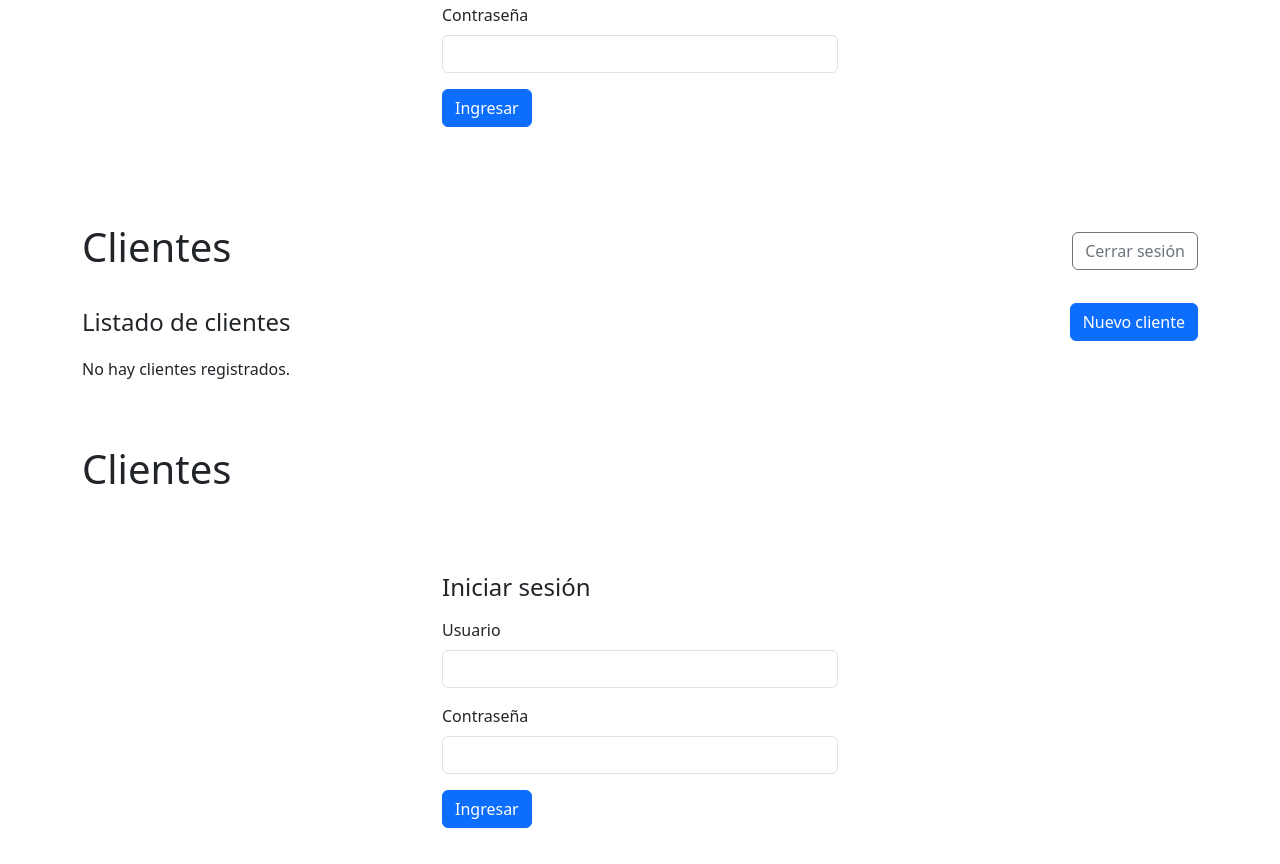
Scenario: composition root › debe_mostrar_el_error_en_el_formulario_sin_redirigir_con_credenciales_incorrectas
This screenshot has width=1280, height=864.
(page scrolled)
Type "admin" into the field. click: (640, 669)
box: [442,650,838,688]
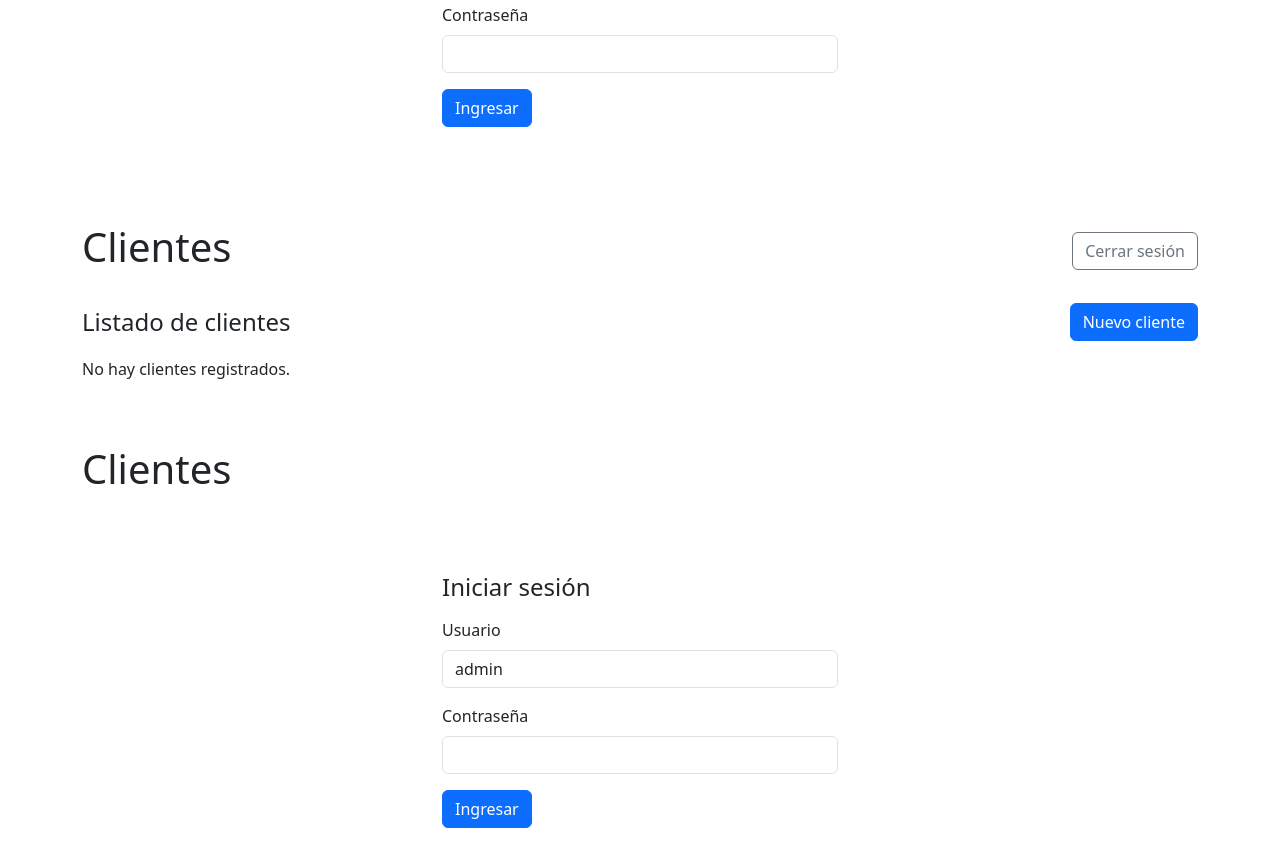
Type "mala" into the 2nd password field. click: (640, 755)
box: [442,736,838,774]
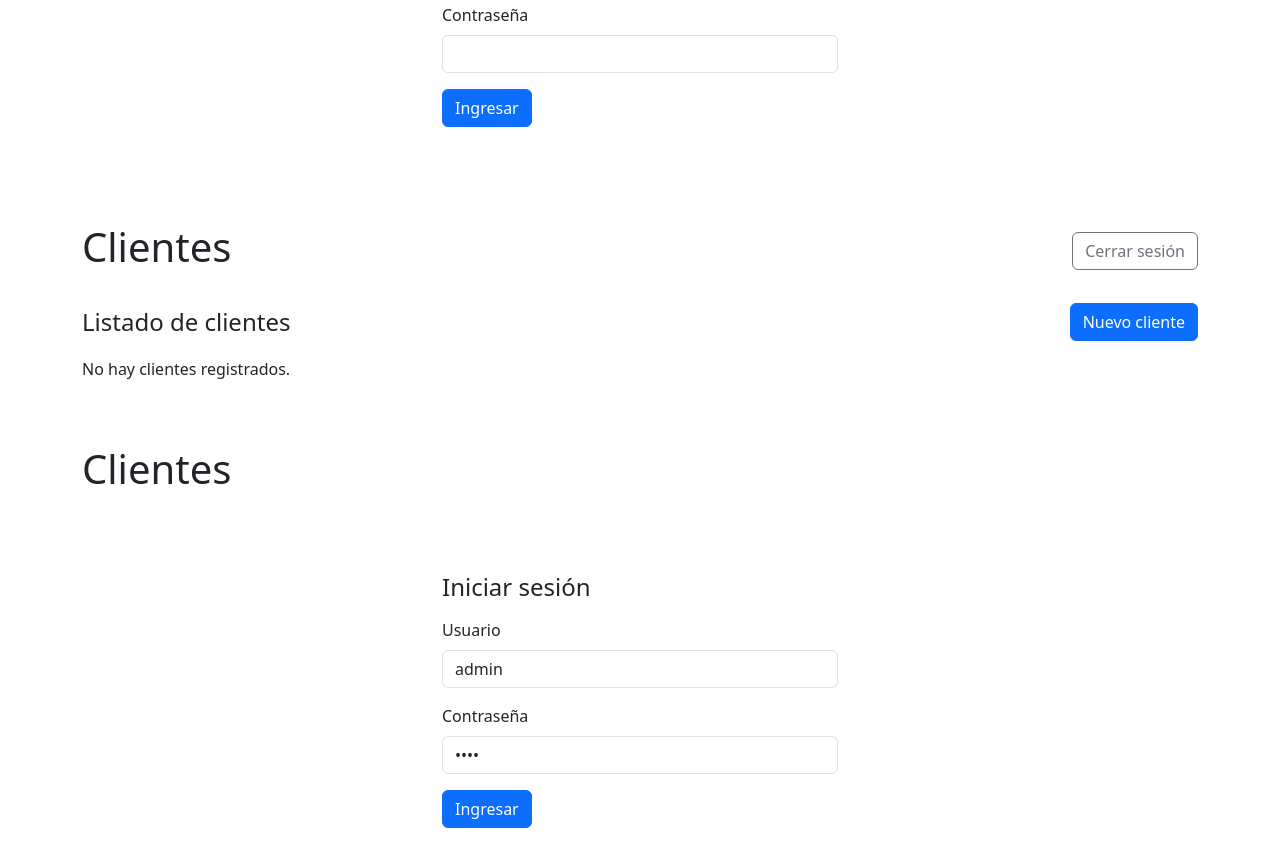
Submit the 2nd form "Usuario Contraseña Ingresar", box [442,618,838,828]
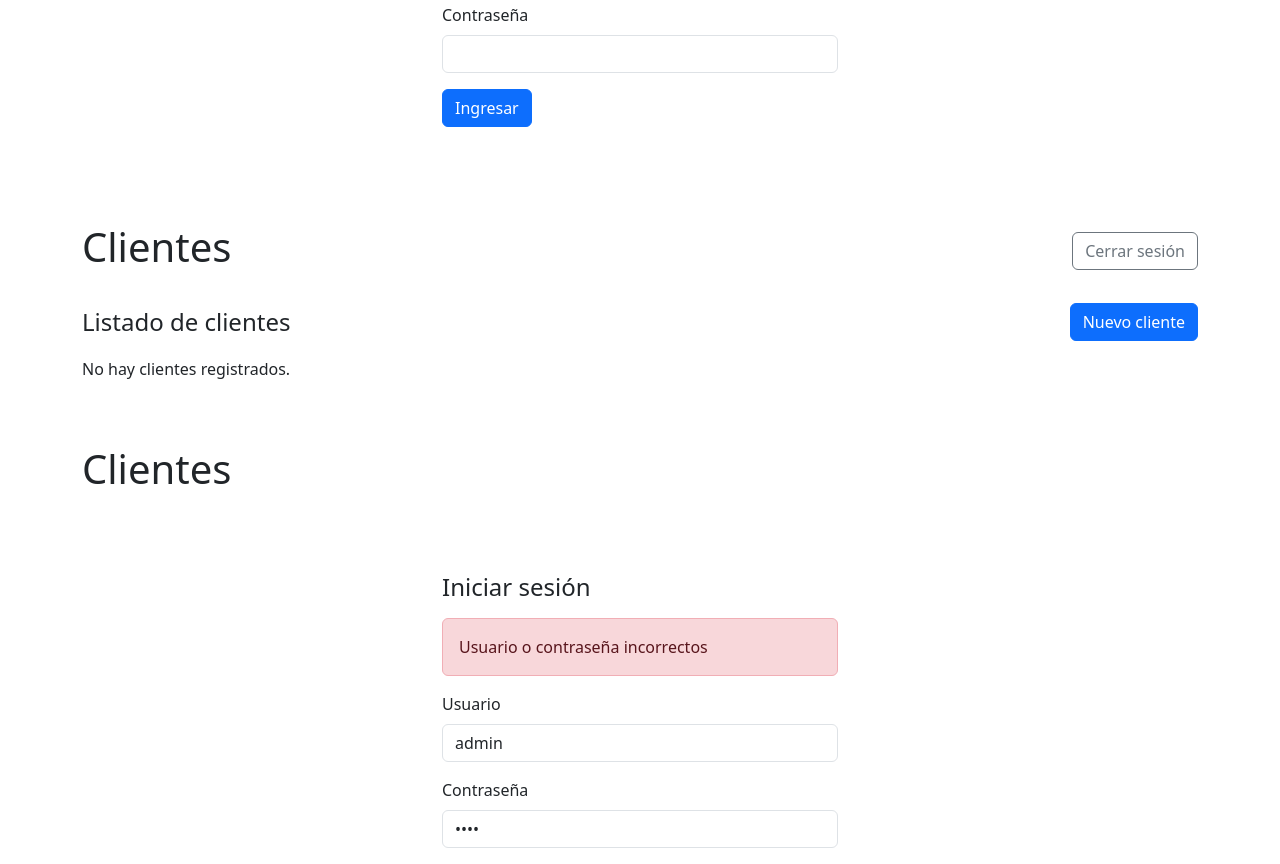
Check: the text "Usuario o contraseña incorrectos" is shown, box [442,618,838,676]
